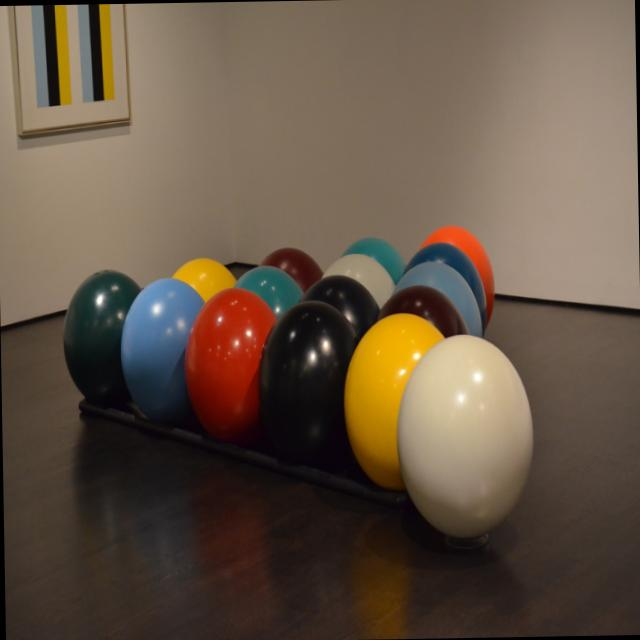Ball: (61, 223, 534, 546)
